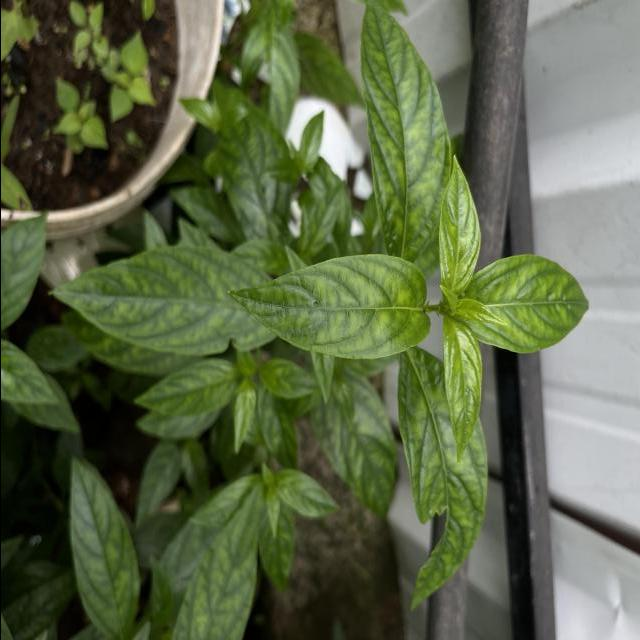Andrographis paniculata: (358, 0, 454, 262), (224, 251, 430, 362), (46, 242, 244, 356), (169, 484, 263, 640), (67, 454, 142, 640), (466, 252, 589, 354), (313, 374, 398, 520), (130, 358, 237, 420), (436, 154, 482, 292), (442, 317, 482, 467), (274, 471, 338, 518)
